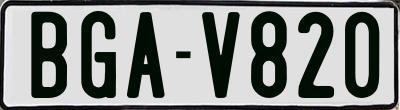0: (342, 9, 379, 97)
2: (298, 12, 336, 100)
8: (250, 8, 286, 100)
A: (127, 11, 169, 97)
B: (31, 11, 69, 97)
G: (80, 8, 120, 97)
V: (200, 9, 241, 97)
